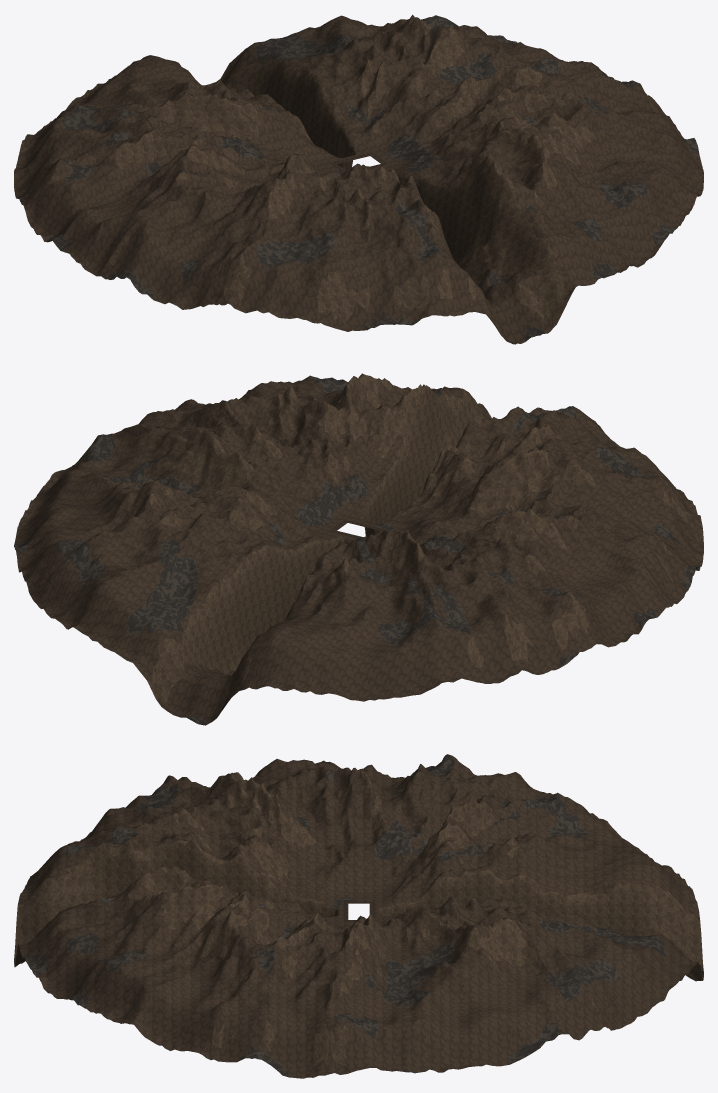
File: backdrop_near_rect_iron_dead.glb
3 renders of one model, top to bottom at view 1: azimuth 30°, elevation 25°; view 2: azimuth 150°, elevation 25°; view 3: azimuth 270°, elevation 25°, orthographic.
Visible parts, largest first — view 1: near_land_S, near_land_W, near_land_E, near_land_N; view 2: near_land_N, near_land_W, near_land_E, near_land_S; view 3: near_land_E, near_land_S, near_land_N, near_land_W.
Boxes of the visible parts, left/top/right/bottom form: near_land_S: left=269, top=116, right=690, bottom=344; near_land_W: left=14, top=93, right=342, bottom=313; near_land_E: left=365, top=16, right=703, bottom=210; near_land_N: left=26, top=14, right=439, bottom=170; near_land_N: left=26, top=496, right=449, bottom=725; near_land_W: left=379, top=447, right=703, bottom=683; near_land_E: left=14, top=381, right=356, bottom=581; near_land_S: left=277, top=373, right=687, bottom=536; near_land_E: left=113, top=894, right=601, bottom=1078; near_land_S: left=14, top=795, right=343, bottom=1021; near_land_N: left=375, top=798, right=703, bottom=1030; near_land_W: left=140, top=754, right=602, bottom=906.
Bounding box in the file's own units: 576 × 168 × 576.
Materials: 3 (3 with a texture image).
